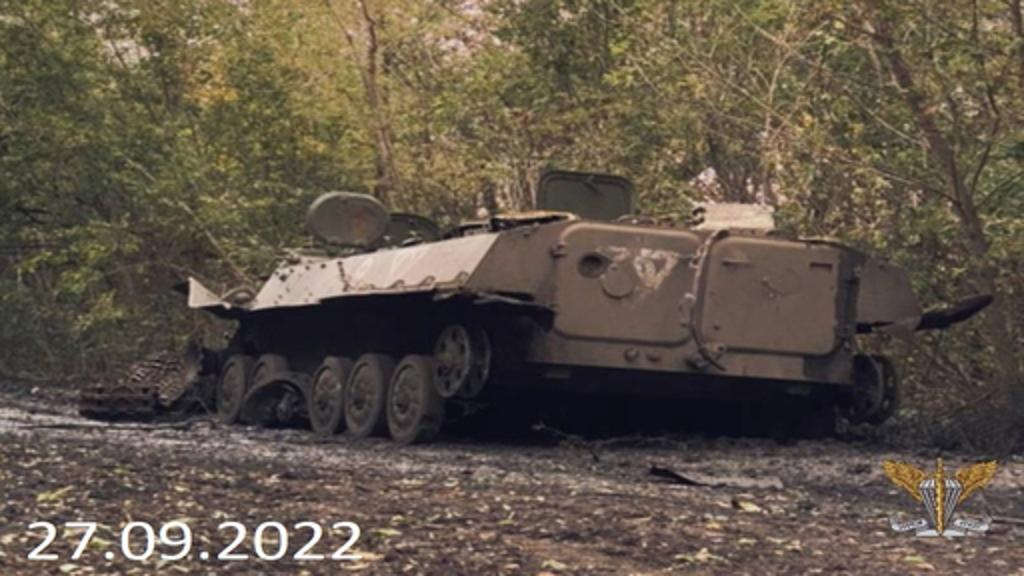APC-IFV: (194, 162, 924, 458)
